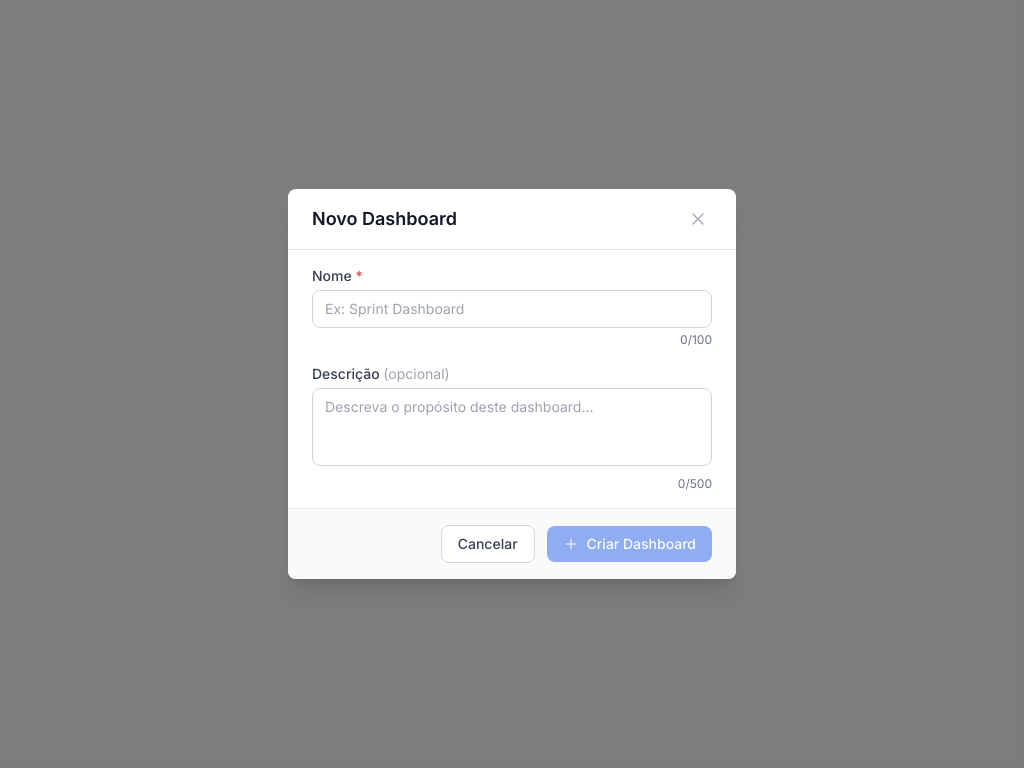
Test case: CreateDashboardModal › Form Validation › should enable submit button when name is filled
In the field labelled "Nome *": (512, 309) [312,290,712,328], type "My Dashboard"
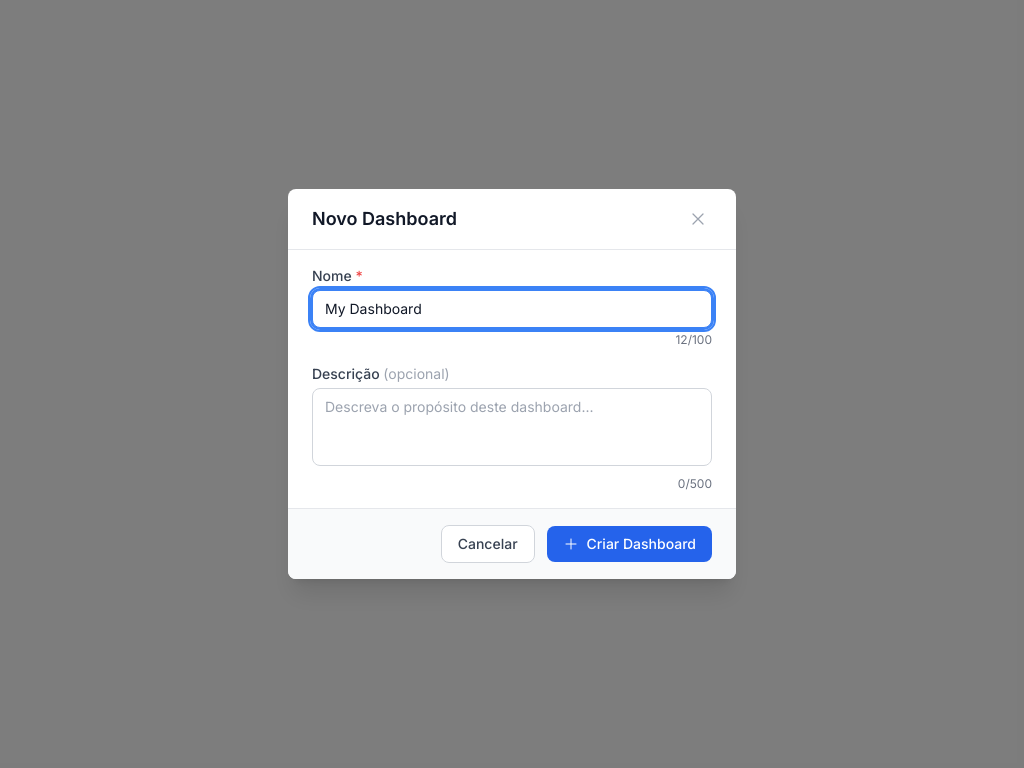
Now the button "Criar Dashboard" is enabled, box [547,526,712,562]
